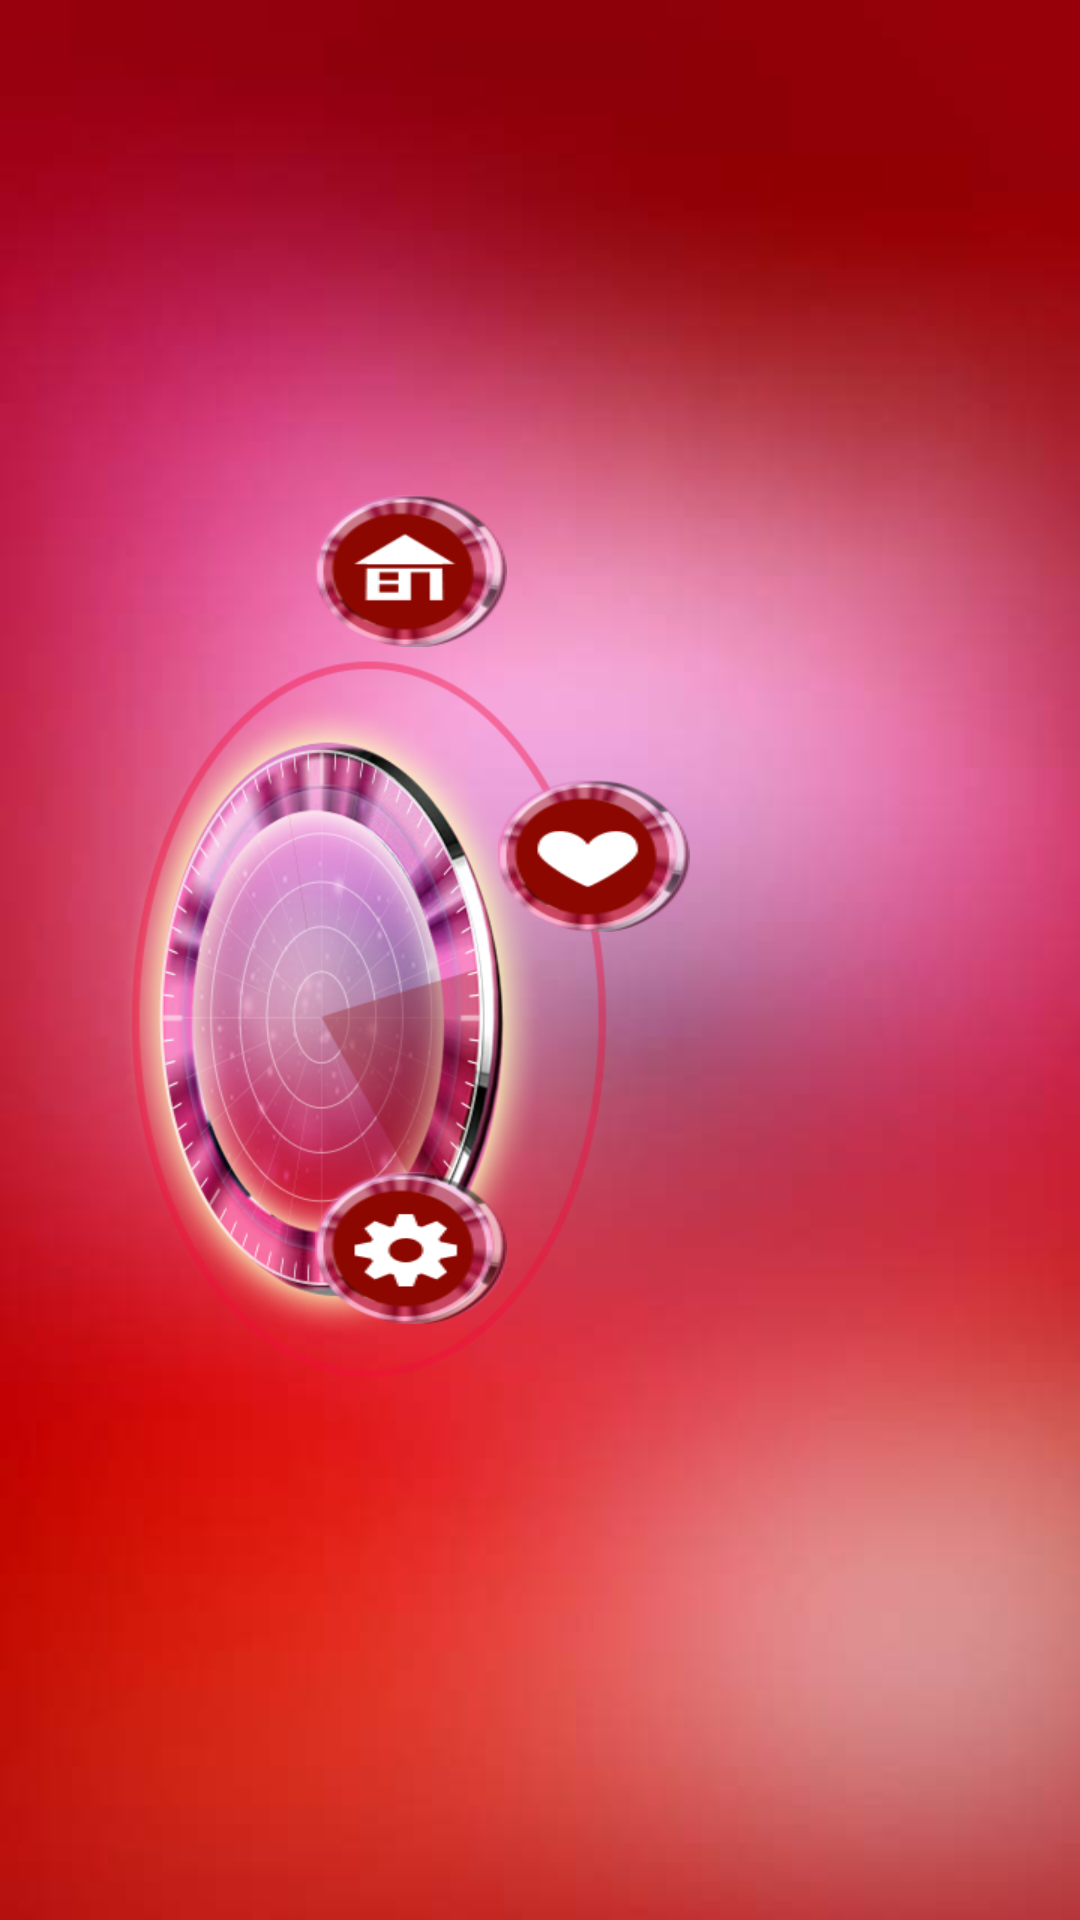

Point at icon controls on the screen. Image size 1080*1920, points as point (x, y).
coll: point (594, 856)
home: point (411, 571)
set: point (411, 1248)
